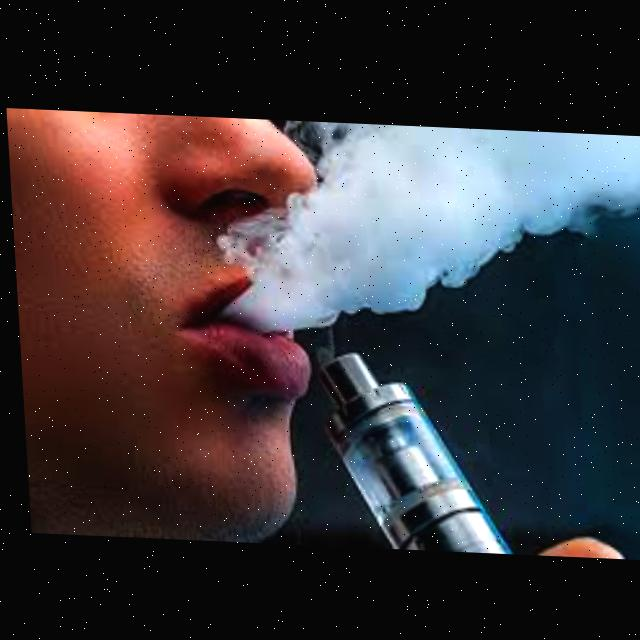vape: (310, 346, 509, 549)
